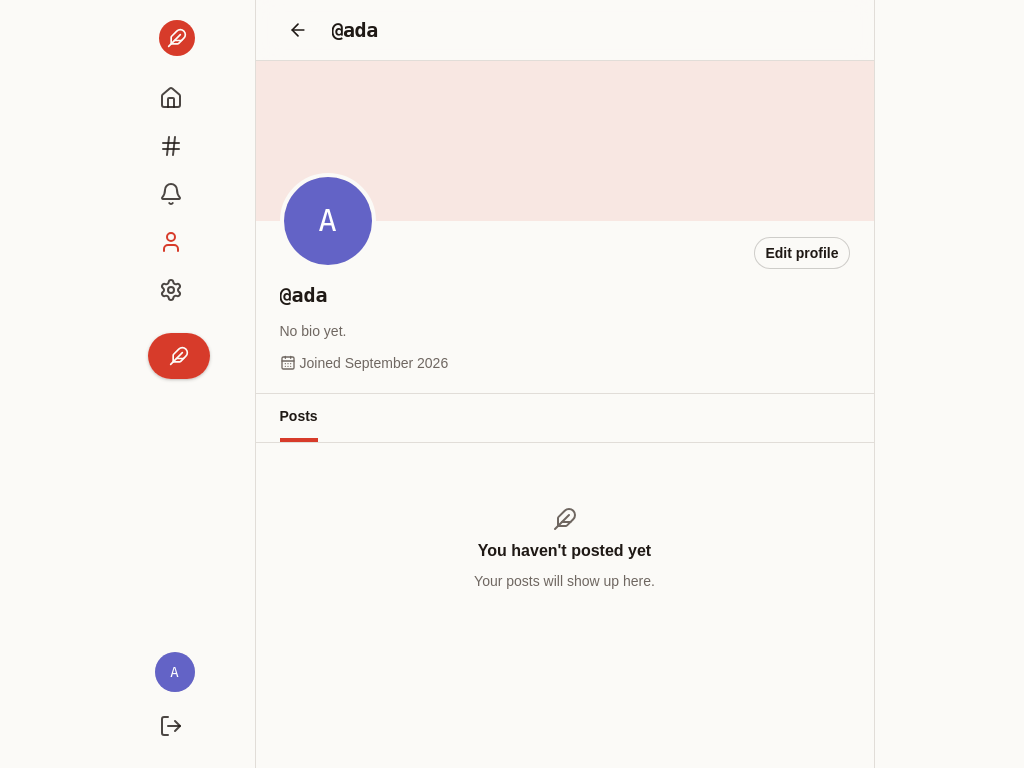
Test: AppShell › New post › goes Home from /u/ada and focuses the composer (left rail)
Expected: the header is shown, [146,20,210,738]
Expected: the heading "@ada" is shown, [332,18,378,42]
What coordinates should you click on to do the following:
click the button named "New post"
I would click on:
 (178, 356)
Its box is [146,332,210,380].
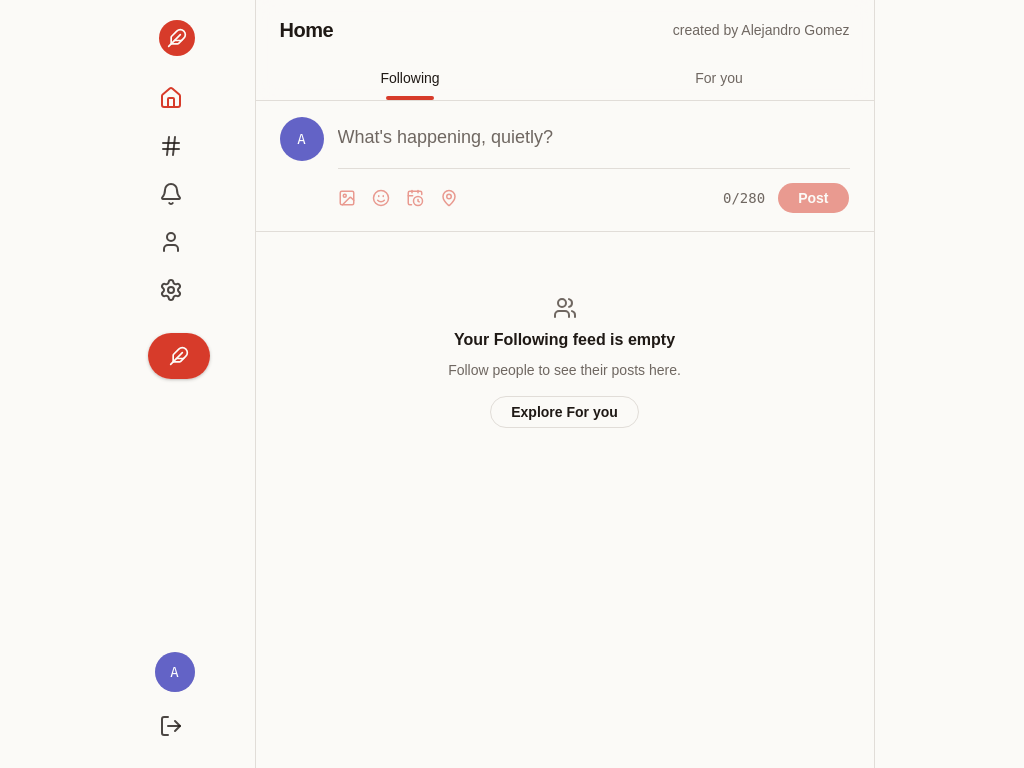
Expected: the heading "Home" is shown, [280,19,333,41]
